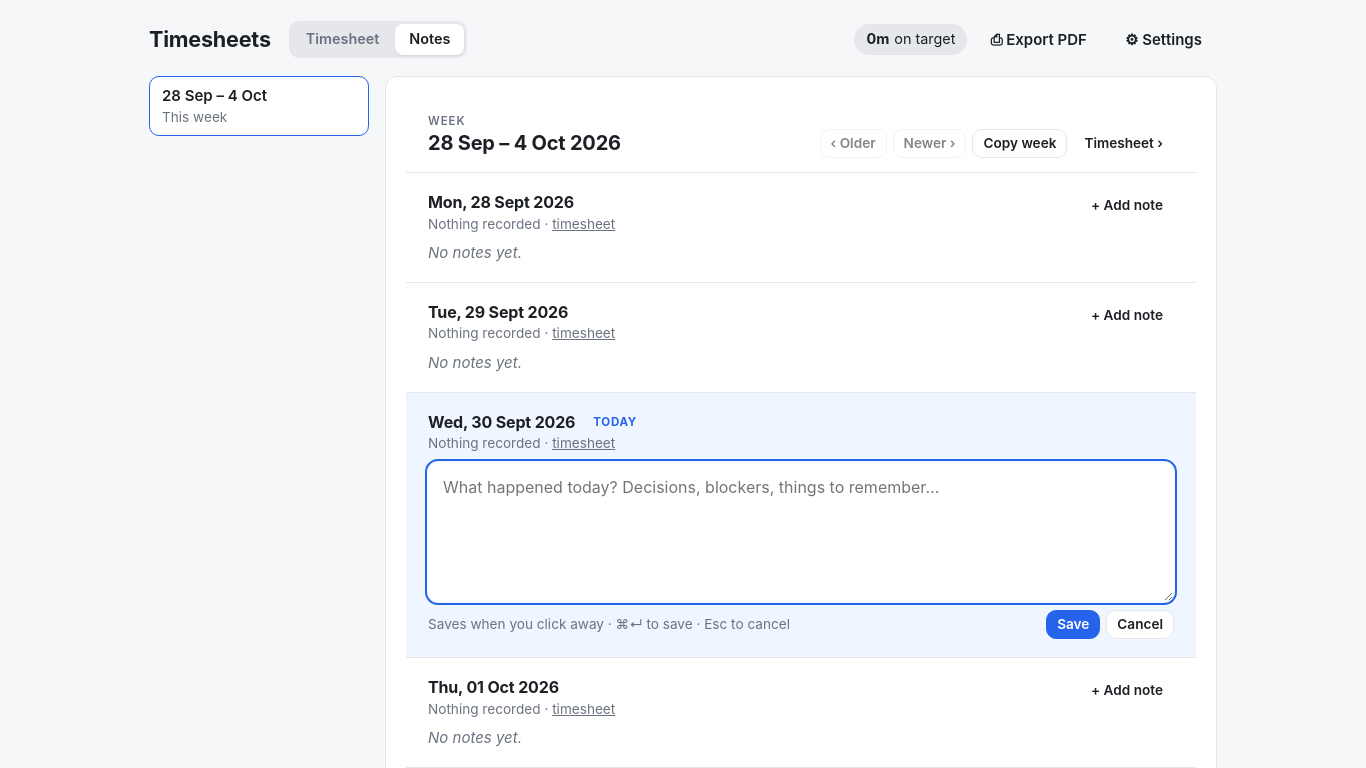
it: App › saves a note from the notes page and shows the returned view
Type "Wrote the release notes." into the text box named "Note for Wed, 30 Sept 2026" at (801, 532), box [428,462,1174,602]
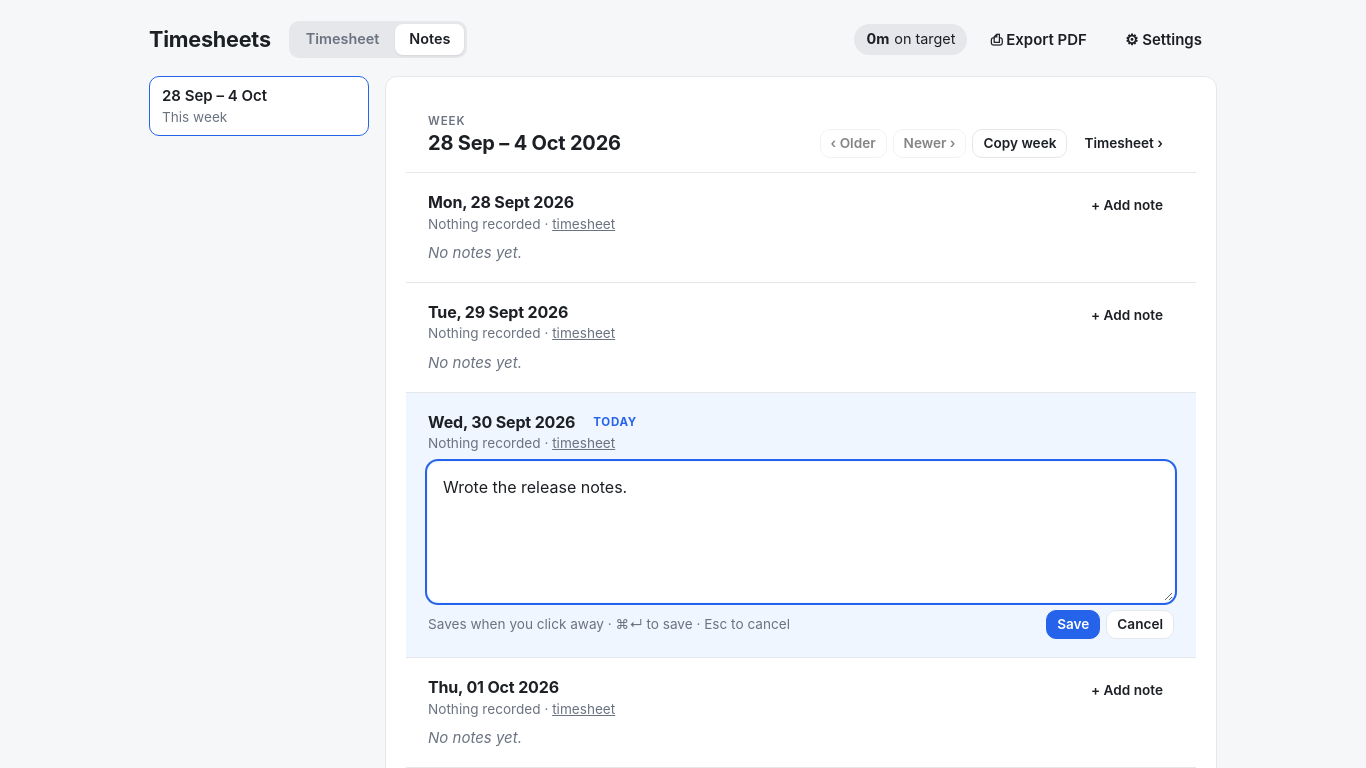
Type keys "{Control>}{Enter}{/Control}"
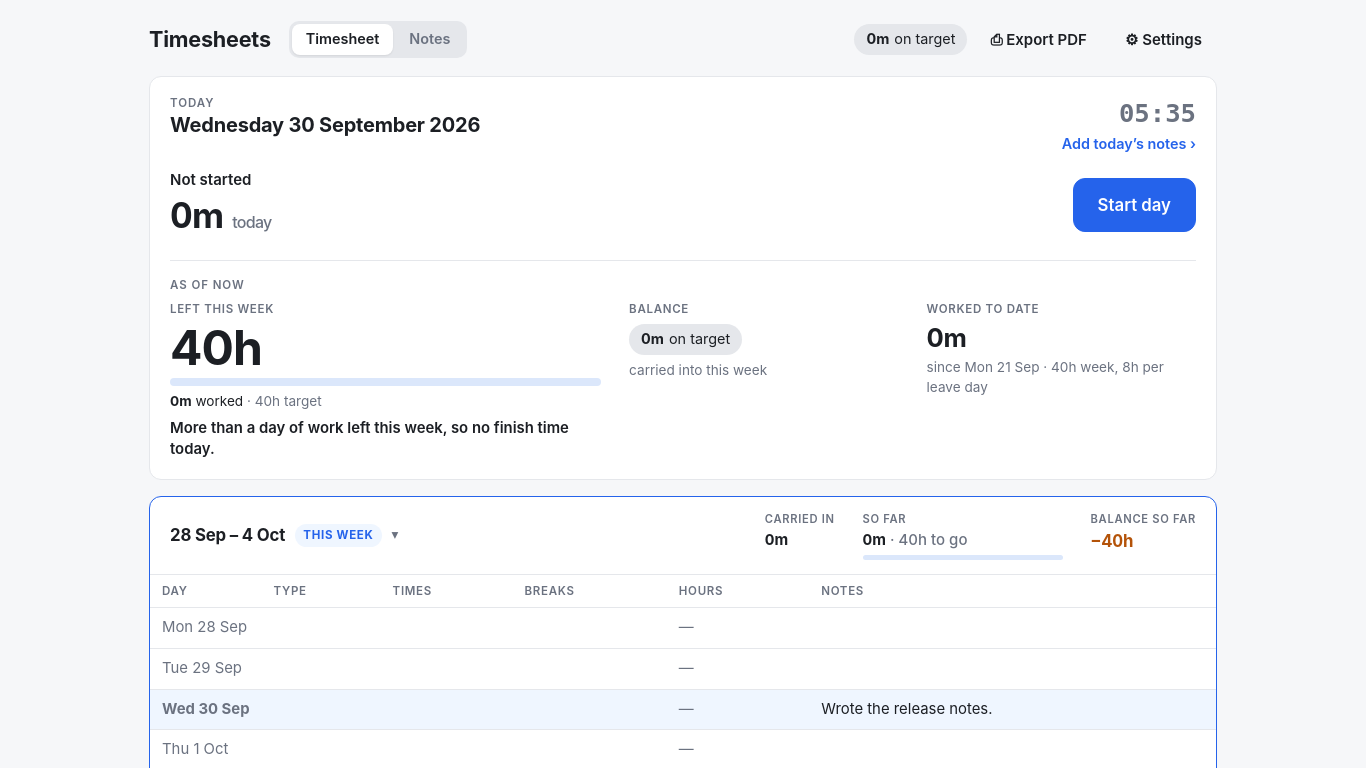
expect the link "Wrote the release notes." is shown: met, box [821,700,993,718]
